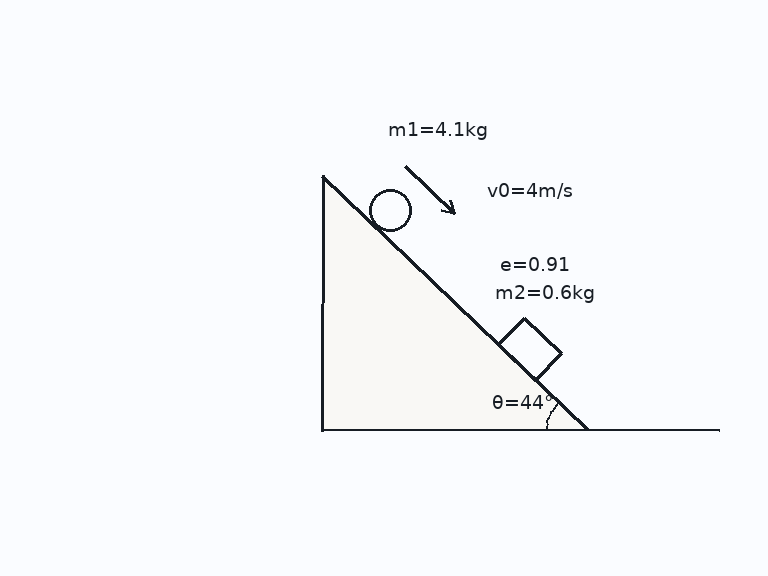ball: (367, 187, 413, 233)
block: (496, 316, 563, 382)
ramp: (321, 173, 589, 432)
